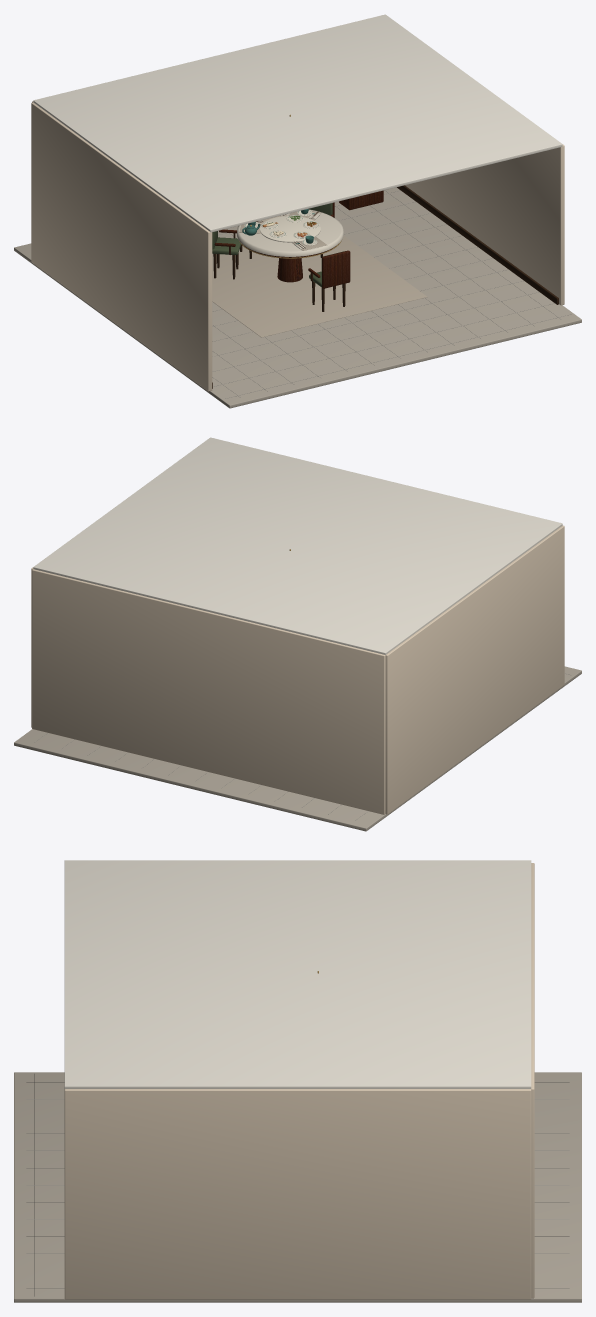
File: room-work.glb
The picture shows the model from 3 angles, top to bottom: view 1: azimuth 30°, elevation 25°; view 2: azimuth 150°, elevation 25°; view 3: azimuth 270°, elevation 25°; orthographic projection. The views are drawn at different scales.
Visible parts, largest first — view 1: Ceiling, Floor, Surface sc:filmWall, Surface sc:floorJoint, Surface sc:napkin, Surface sc:woodEdge, Surface wood_table_001.002, Surface sc:porcelain, Surface sc:chair, Surface sc:woodEdge.001, Surface wood_table_001, Surface sc:porcelain.001 (+1 smaller); view 2: Surface sc:filmWall, Ceiling, Floor; view 3: Ceiling, Surface sc:filmWall, Floor, Surface sc:floorJoint.
Boxes of the visible parts, x1,y1,x2,y2 form: Ceiling: [33, 14, 562, 232]; Floor: [14, 187, 581, 408]; Surface sc:filmWall: [31, 101, 564, 391]; Surface sc:floorJoint: [212, 190, 571, 398]; Surface sc:napkin: [237, 209, 343, 256]; Surface sc:woodEdge: [212, 185, 558, 388]; Surface wood_table_001.002: [322, 190, 383, 288]; Surface sc:porcelain: [260, 216, 320, 242]; Surface sc:chair: [212, 203, 345, 287]; Surface sc:woodEdge.001: [213, 211, 345, 311]; Surface wood_table_001: [277, 258, 302, 282]; Surface sc:porcelain.001: [244, 210, 319, 245]; Surface sc:filmWall: [31, 525, 564, 814]; Ceiling: [33, 437, 562, 654]; Floor: [14, 666, 581, 831]; Ceiling: [64, 860, 531, 1088]; Surface sc:filmWall: [64, 863, 534, 1299]; Floor: [14, 1072, 581, 1302]; Surface sc:floorJoint: [26, 1074, 569, 1296].
Size of the model in its own units: 13.36 by 5.95 by 14.
53 materials, 4 textured.
